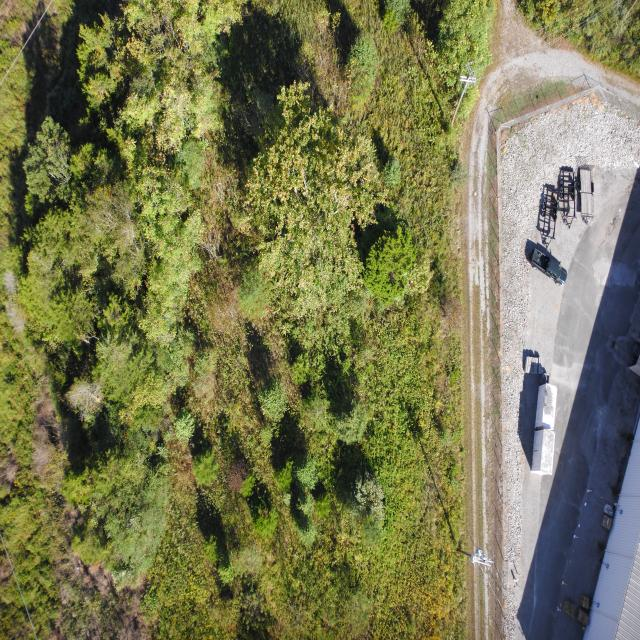Area of Interest: (30, 5, 237, 560), (224, 96, 415, 430)
